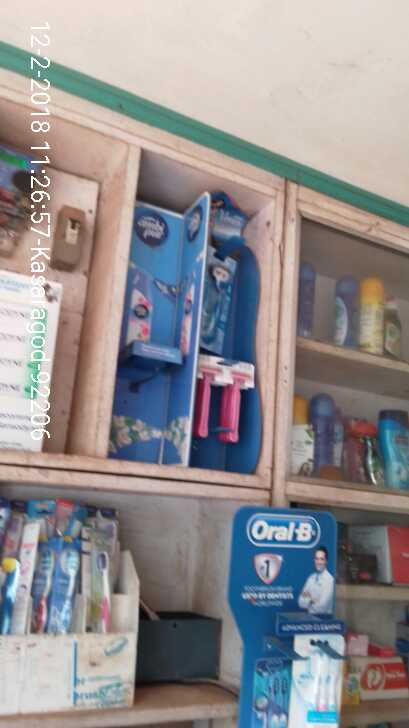beauty: (202, 249, 230, 358)
pharmacy: (294, 633, 342, 728)
